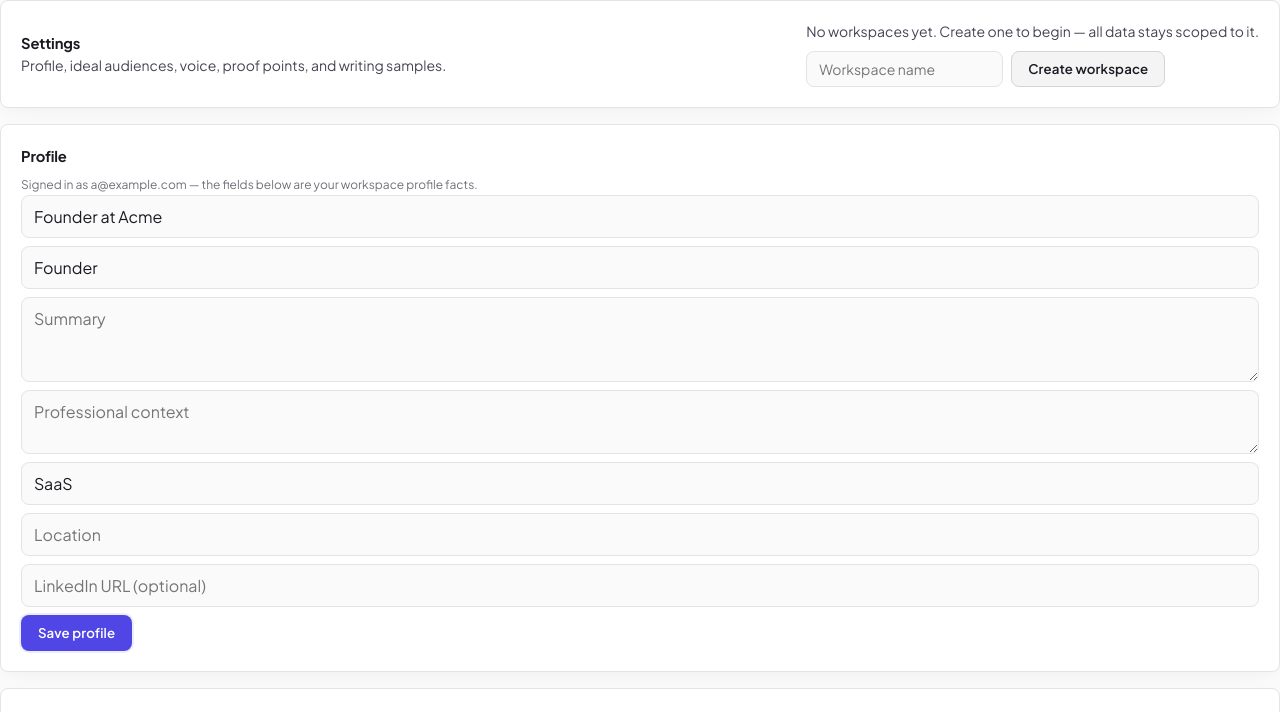
Test: SettingsPage profile section › loads and edits an existing profile with real columns
The image size is (1280, 712).
Expected: the button "Save profile" is shown, [21,615,132,651]
Expected: the field named "Industry" holds "SaaS", [21,462,1259,505]
Replace the text in the field named "Headline" with "CEO at Acme" at (640, 216), box [21,195,1259,238]
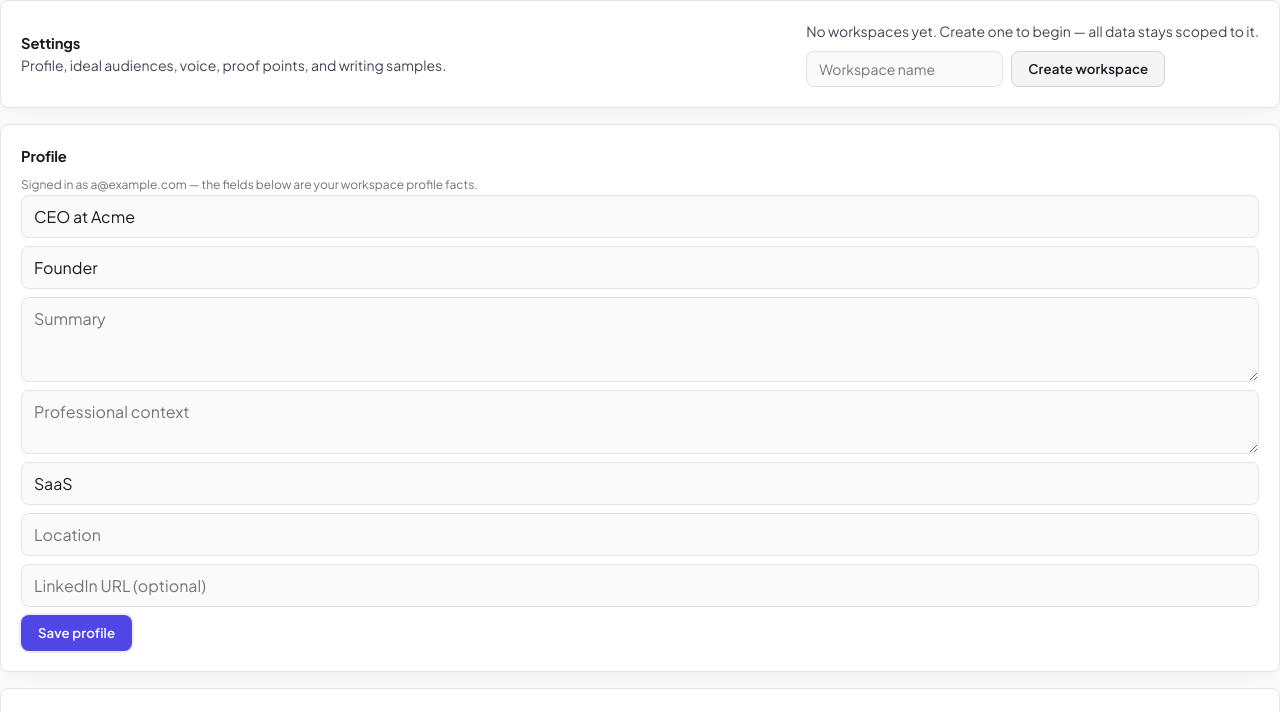
Click the button "Save profile" at (77, 633), box [21,615,132,651]
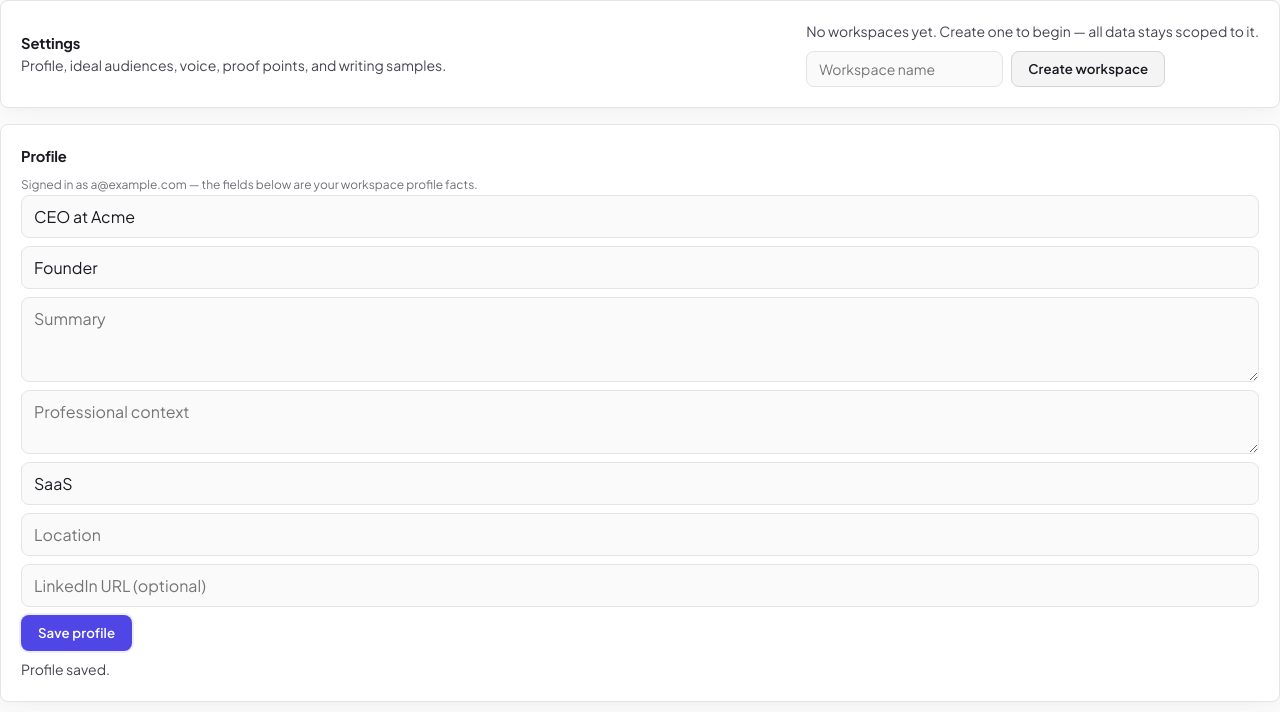
Now the text "Profile saved." is shown, box [21,660,110,678]
